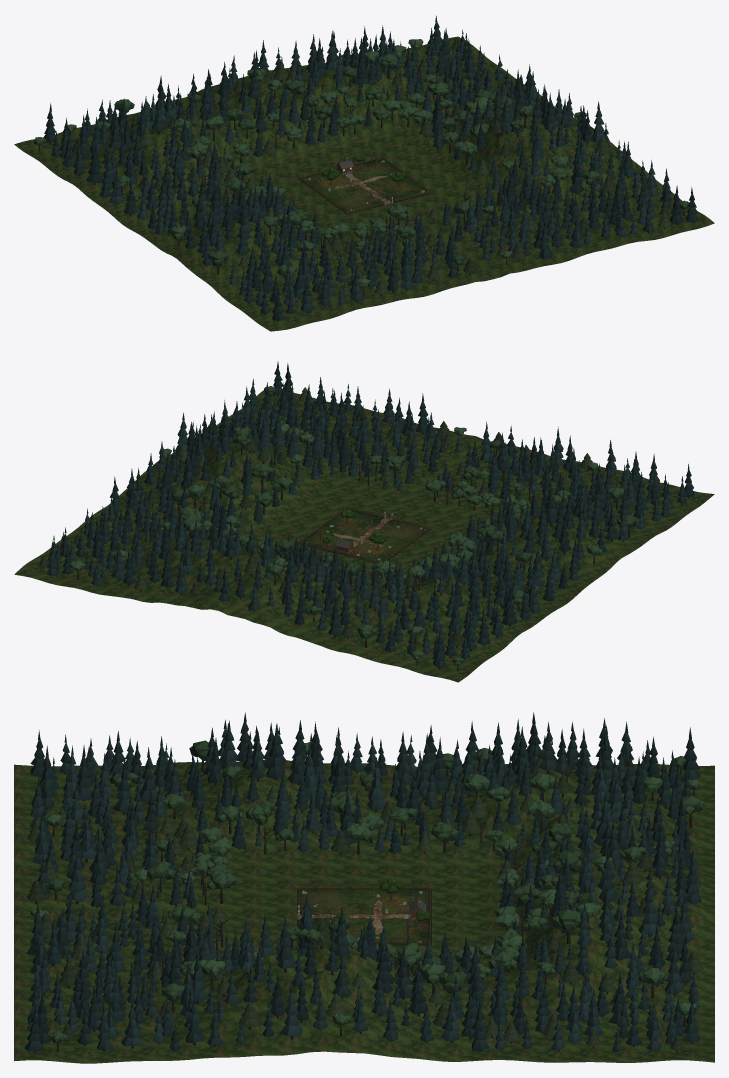
Rendered from zone_old_cemetery.glb.
The picture shows the model from 3 angles, top to bottom: view 1: azimuth 30°, elevation 25°; view 2: azimuth 150°, elevation 25°; view 3: azimuth 270°, elevation 25°; orthographic projection. The views are drawn at different scales.
Visible parts, largest first — view 1: terrain_outer, forest_far_08, forest_far_03, forest_far_02, forest_far_01, forest_far_04, forest_far_07, forest_near_06, forest_far_06, forest_far_05, forest_near_04, ground_old_cemetery (+6 smaller); view 2: terrain_outer, forest_far_08, forest_far_07, forest_far_06, forest_far_01, forest_far_05, forest_far_02, forest_far_03, forest_far_04, forest_near_04, ground_old_cemetery, forest_near_03 (+6 smaller); view 3: terrain_outer, forest_far_04, forest_far_05, forest_far_06, forest_far_02, forest_far_08, forest_far_01, forest_far_03, forest_far_07, forest_near_01, forest_near_08, forest_near_06 (+6 smaller).
Part boxes in pixels (x1=…): terrain_outer: x1=14, y1=36, x2=714, y2=331; forest_far_08: x1=33, y1=95, x2=219, y2=229; forest_far_03: x1=454, y1=183, x2=699, y2=265; forest_far_02: x1=272, y1=213, x2=477, y2=322; forest_far_01: x1=155, y1=179, x2=308, y2=314; forest_far_04: x1=514, y1=75, x2=689, y2=215; forest_far_07: x1=43, y1=52, x2=281, y2=144; forest_near_06: x1=284, y1=45, x2=417, y2=142; forest_far_06: x1=255, y1=15, x2=450, y2=102; forest_far_05: x1=425, y1=30, x2=562, y2=121; forest_near_04: x1=454, y1=95, x2=568, y2=197; ground_old_cemetery: x1=297, y1=158, x2=431, y2=214; terrain_outer: x1=14, y1=386, x2=714, y2=682; forest_far_08: x1=425, y1=528, x2=568, y2=670; forest_far_07: x1=248, y1=545, x2=445, y2=669; forest_far_06: x1=46, y1=510, x2=285, y2=601; forest_far_01: x1=510, y1=470, x2=686, y2=581; forest_far_05: x1=38, y1=436, x2=223, y2=568; forest_far_02: x1=455, y1=421, x2=694, y2=503; forest_far_03: x1=273, y1=361, x2=466, y2=472; forest_far_04: x1=155, y1=379, x2=302, y2=473; forest_near_04: x1=229, y1=411, x2=324, y2=507; ground_old_cemetery: x1=298, y1=508, x2=431, y2=563; forest_near_03: x1=310, y1=417, x2=425, y2=492; terrain_outer: x1=14, y1=759, x2=714, y2=1063; forest_far_04: x1=48, y1=904, x2=368, y2=1052; forest_far_05: x1=360, y1=924, x2=684, y2=1052; forest_far_06: x1=575, y1=843, x2=703, y2=1045; forest_far_02: x1=26, y1=730, x2=159, y2=907; forest_far_08: x1=360, y1=712, x2=686, y2=819; forest_far_01: x1=59, y1=712, x2=364, y2=817; forest_far_03: x1=24, y1=883, x2=162, y2=1052; forest_far_07: x1=574, y1=727, x2=704, y2=887; forest_near_01: x1=162, y1=768, x2=372, y2=854; forest_near_08: x1=357, y1=759, x2=573, y2=854; forest_near_06: x1=494, y1=849, x2=582, y2=974.
Size of the model in its own units: 208 by 37.54 by 208.
20 materials, 13 textured.
